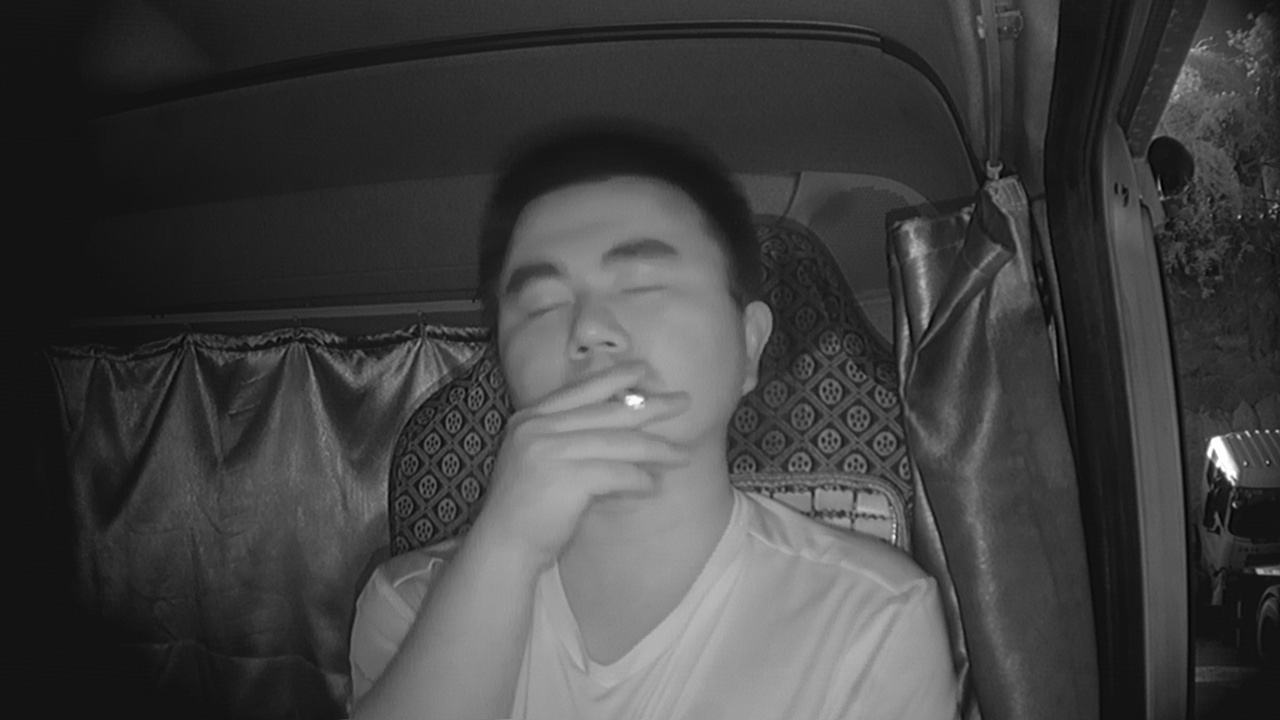hand: (496, 376, 689, 528)
